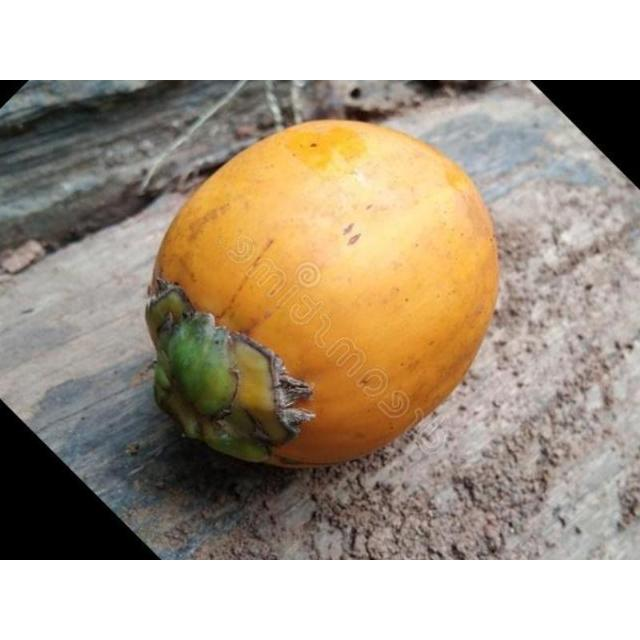good: (145, 120, 501, 470)
